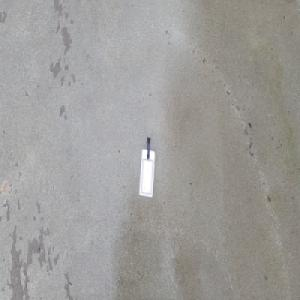LuggageTag: (138, 136, 156, 199)
